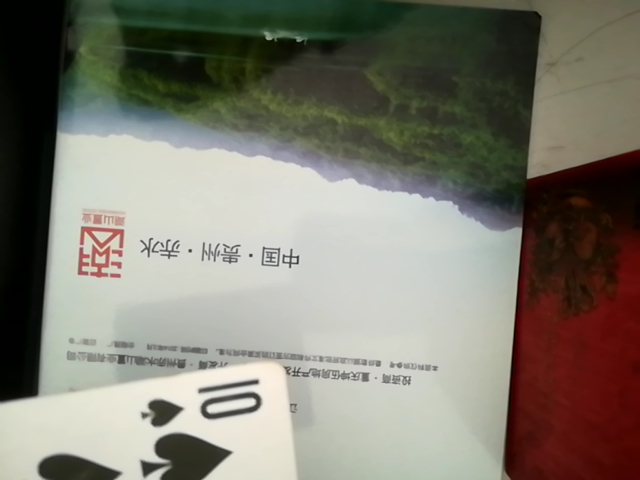ht 10: (0, 365, 306, 479)
